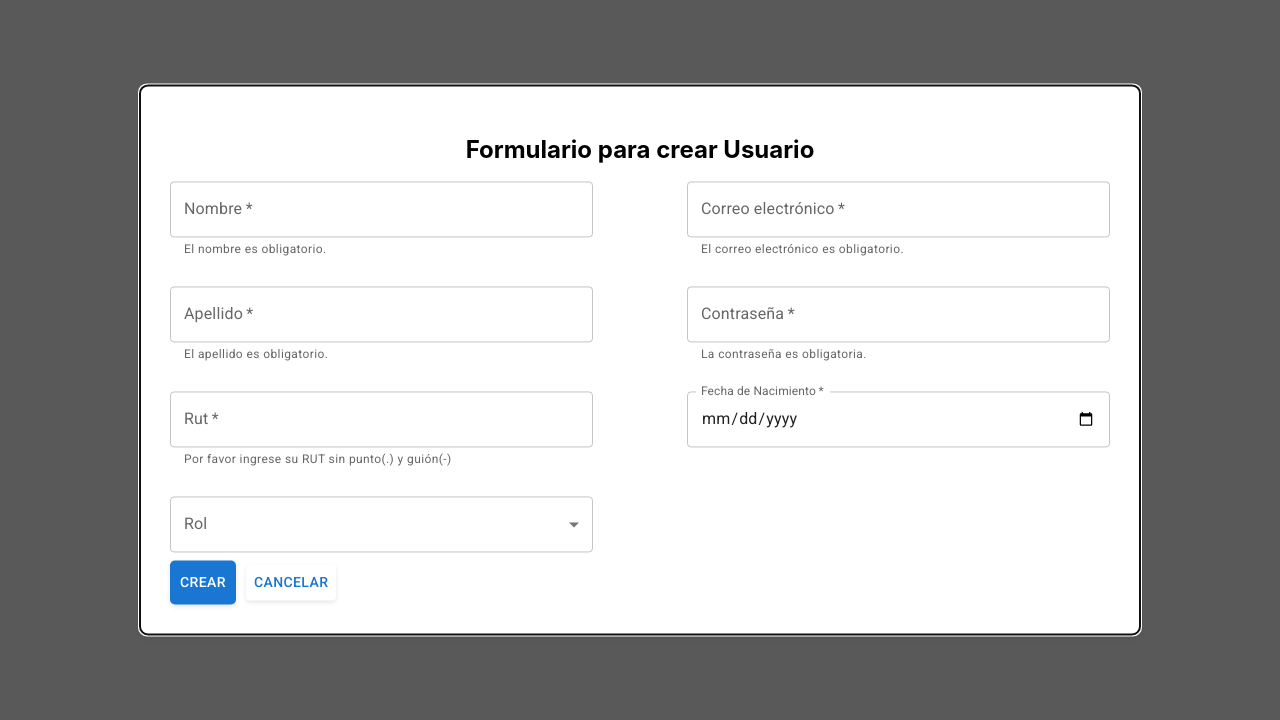
Test: UserFormModal › muestra error si contraseña es muy corta
In the password field labelled "Contraseña *": (898, 314) [687,286,1110,342], type "123"
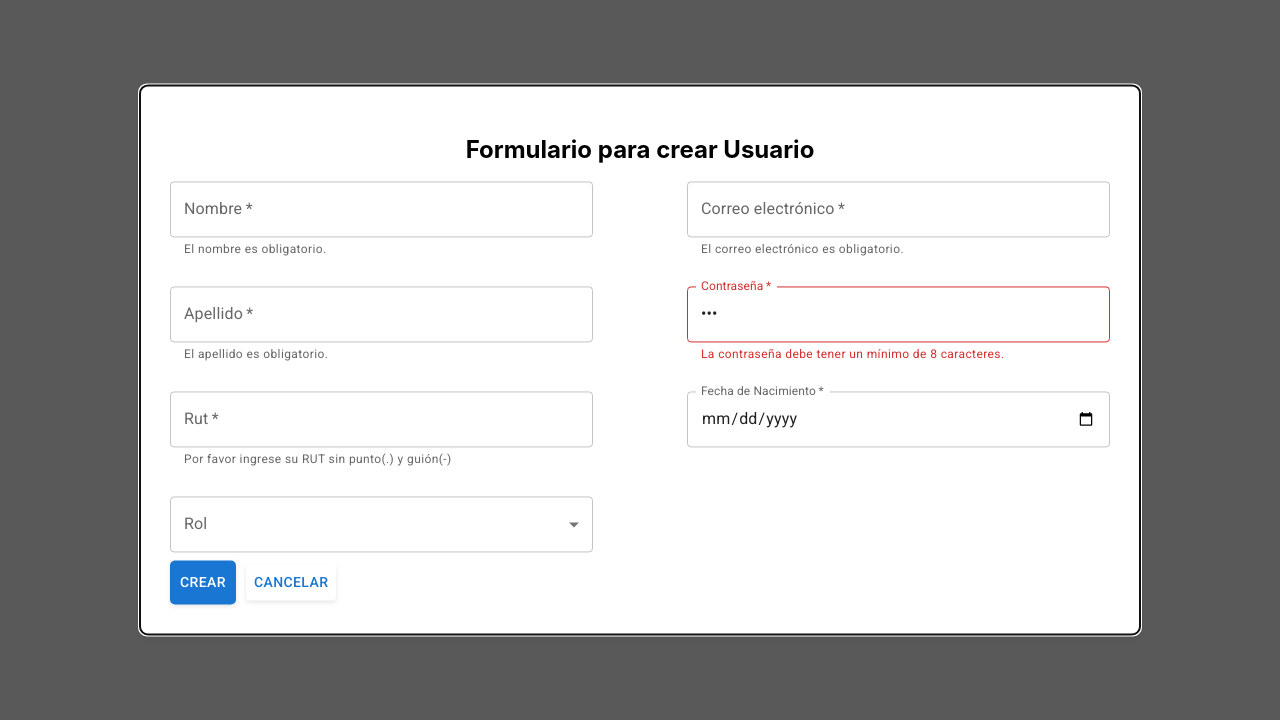
Result: the text "La contraseña debe tener un mínimo de 8 caracteres." is shown at [701,347,1004,361]
